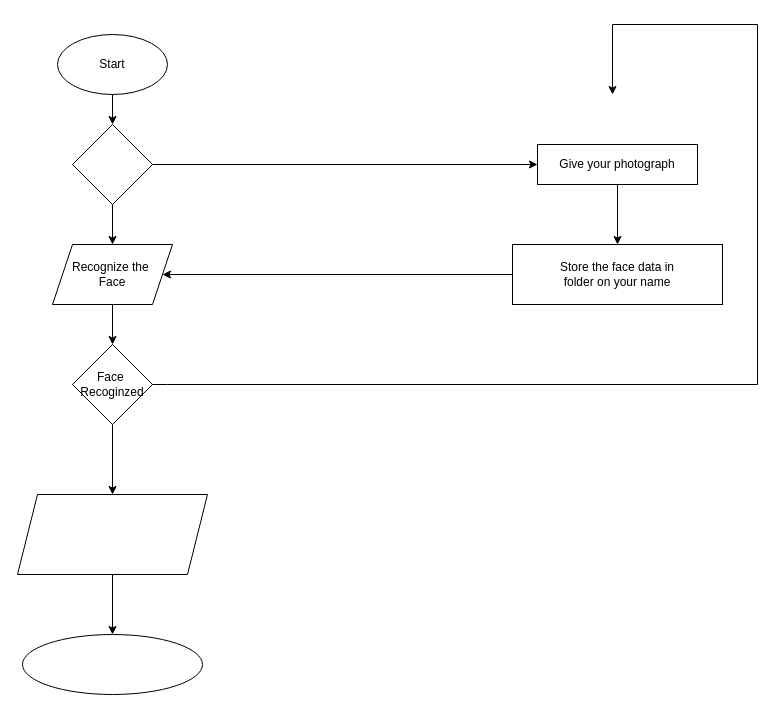
The diagram is 783 pixels wide and 712 high, and some of its shapes have lost their labels. Each missing label, with the centre of its shape:
New User: (x=112, y=164)
Stored CVS file with registration number & data of entry: (x=112, y=534)
